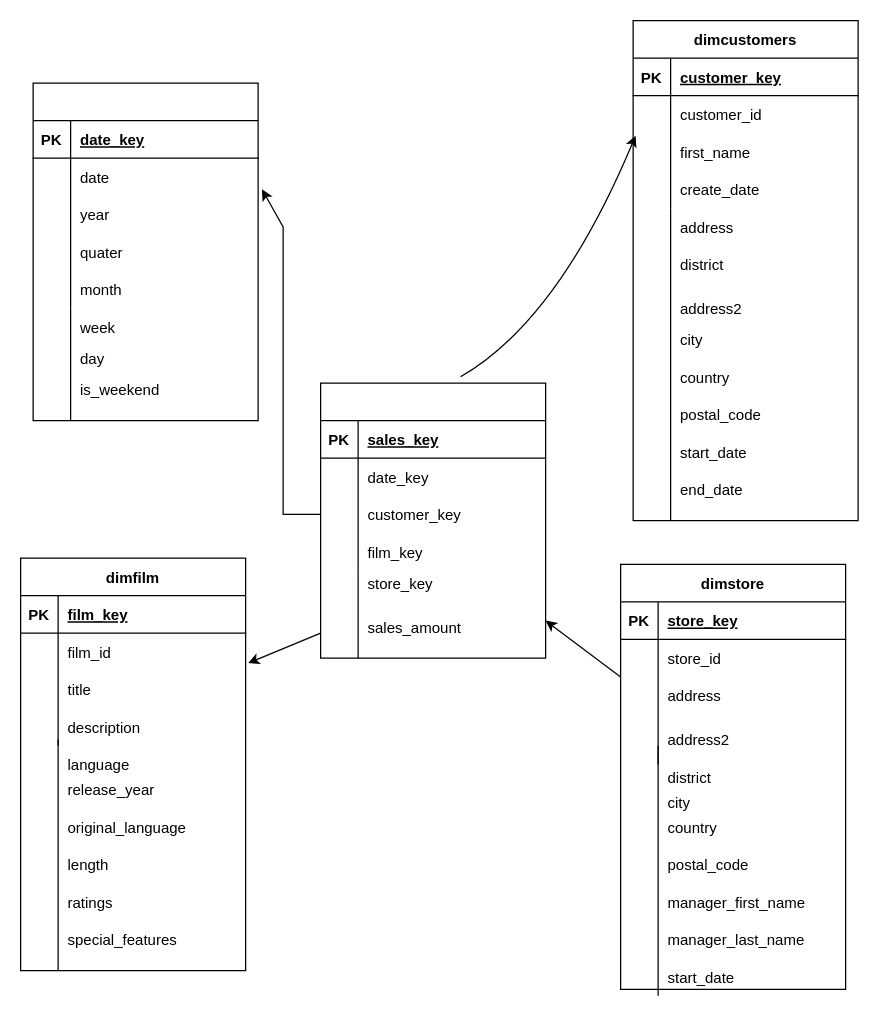
This 879x1016 diagram has some shape labels left out. Here are the shapes that lost their labels. From the top down, the box of each, then its label:
(32, 82, 258, 421): dimdate
(319, 382, 546, 658): factsales
